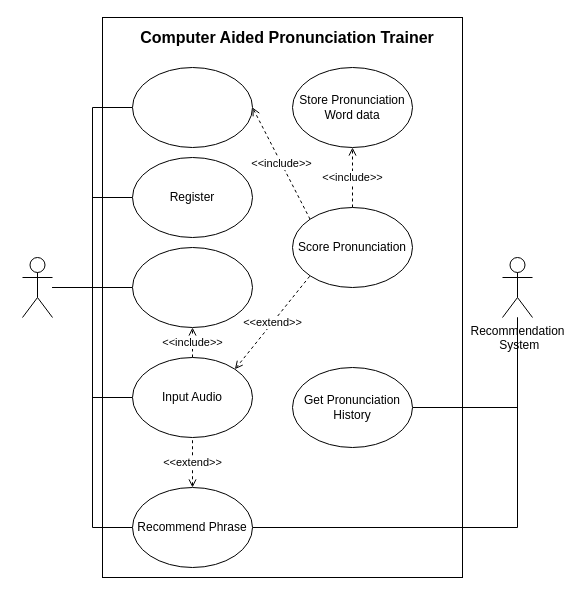
The diagram is 582 pixels wide and 595 high, and some of its shapes have lost their labels. Each missing label, with the centre of its shape:
display score: the point at 192,107
Login: the point at 192,287
Student: the point at 37,287
